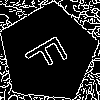F: (23, 28, 77, 78)
